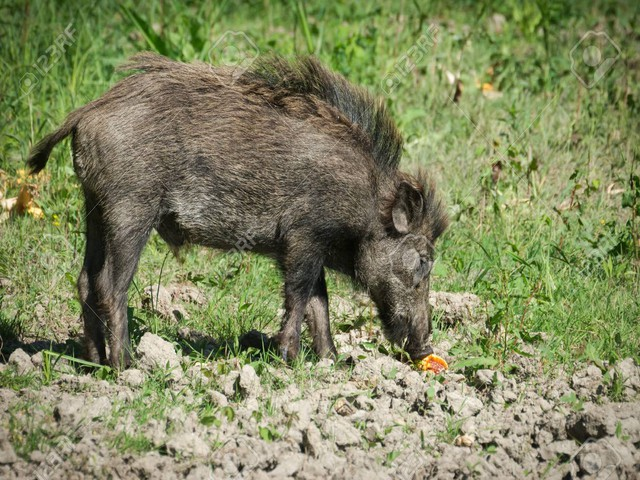Pig: (20, 50, 460, 356)
